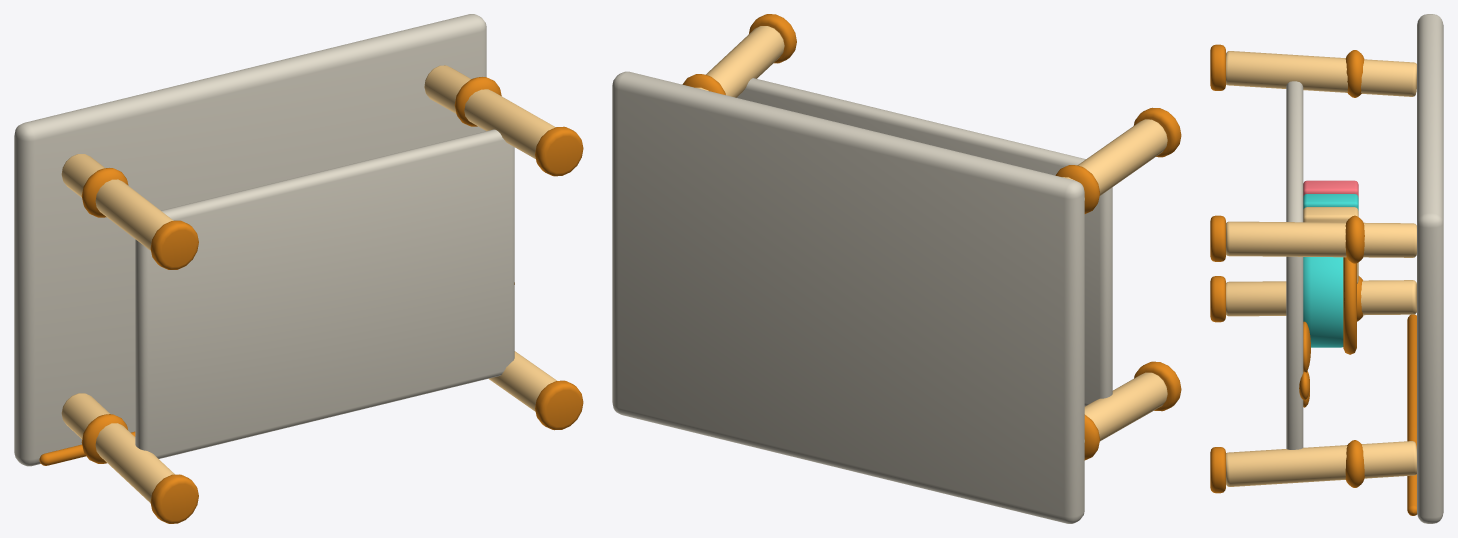
File: LivingCoffeeTable_Premium.fbx
3 renders of one model, left to right at view 1: azimuth 30°, elevation 25°; view 2: azimuth 150°, elevation 25°; view 3: azimuth 270°, elevation 25°, orthographic. The views are drawn at different scales.
Parts seen in each view (by area): view 1: LivingCoffeeTable; view 2: LivingCoffeeTable; view 3: LivingCoffeeTable.
Boxes of the visible parts, left/top/right/bottom form: LivingCoffeeTable: left=14, top=14, right=583, bottom=523; LivingCoffeeTable: left=612, top=14, right=1181, bottom=523; LivingCoffeeTable: left=1210, top=14, right=1443, bottom=523.
Bounding box in the file's own units: 1.02 × 0.71 × 0.484.
